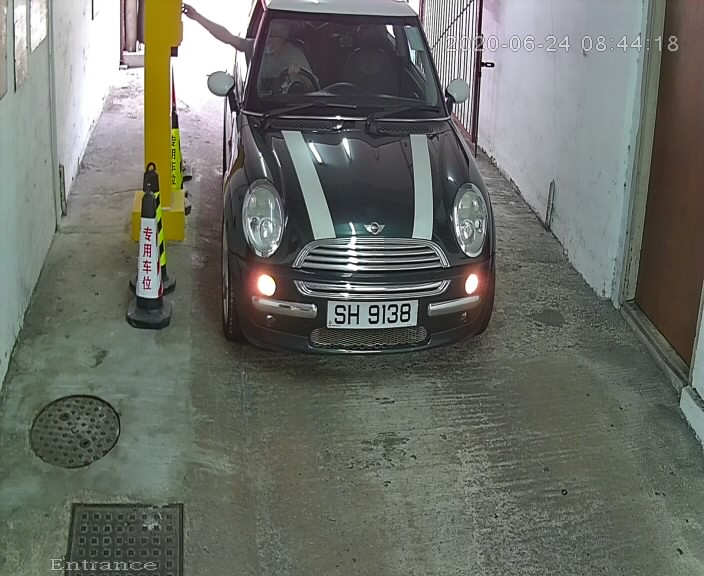privatecar: (199, 1, 514, 377)
